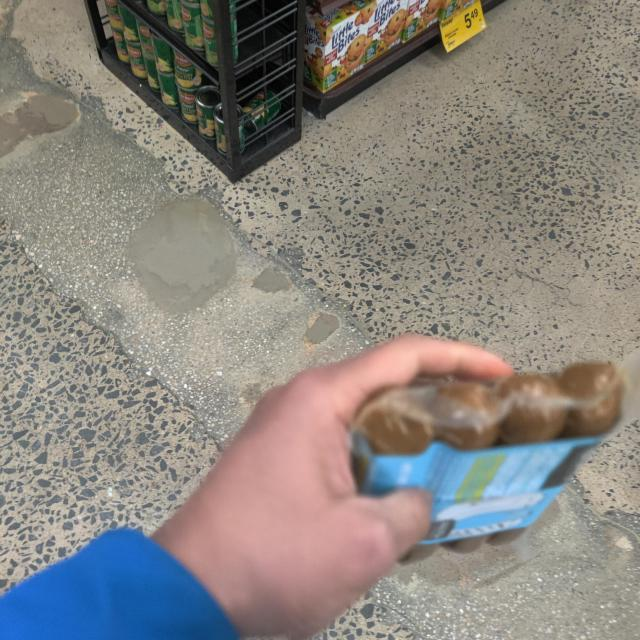Meat: (349, 350, 627, 565)
